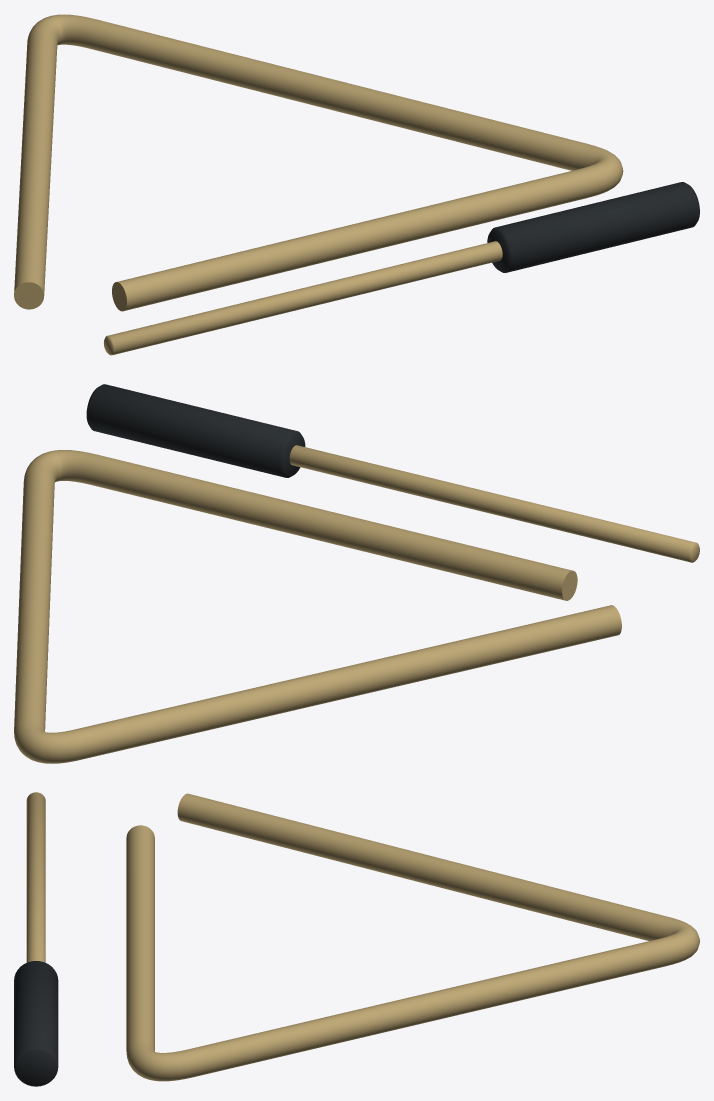
3 renders of one model, top to bottom at view 1: azimuth 30°, elevation 25°; view 2: azimuth 150°, elevation 25°; view 3: azimuth 270°, elevation 25°, orthographic. The views are drawn at different scales.
Visible parts, largest first — view 1: Whole open-corner rounded triangle rod, Seated plain black beater grip, Whole original beater metal shaft; view 2: Whole open-corner rounded triangle rod, Seated plain black beater grip, Whole original beater metal shaft; view 3: Whole open-corner rounded triangle rod, Seated plain black beater grip, Whole original beater metal shaft.
Boxes of the visible parts, x1,y1,x2,y2 form: Whole open-corner rounded triangle rod: (14,14,623,311); Seated plain black beater grip: (487,182,699,272); Whole original beater metal shaft: (104,241,502,355); Whole open-corner rounded triangle rod: (14,450,621,763); Seated plain black beater grip: (86,384,305,477); Whole original beater metal shaft: (289,445,699,562); Whole open-corner rounded triangle rod: (126,793,699,1081); Seated plain black beater grip: (14,961,58,1086); Whole original beater metal shaft: (26,792,45,962).
Bounding box in the file's own units: 0.2038 × 0.014 × 0.2166.
